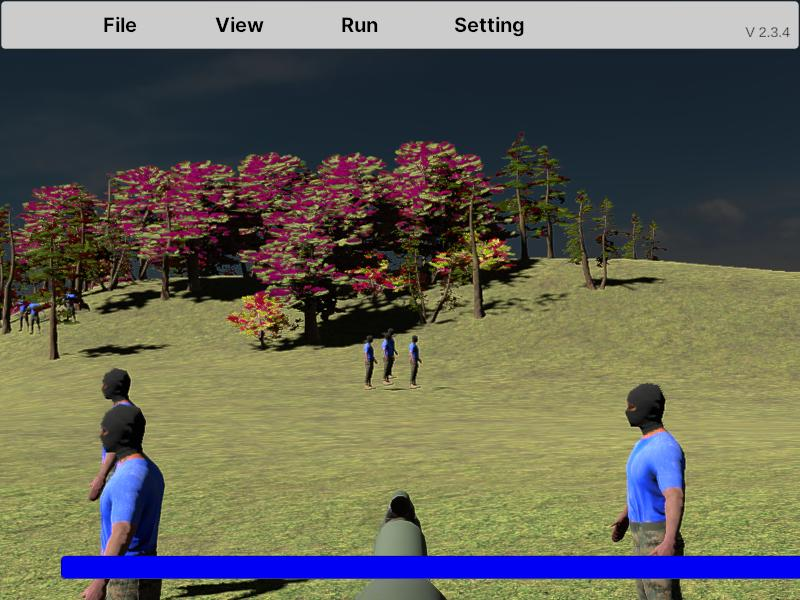Human: (611, 381, 686, 600), (85, 405, 164, 600), (365, 335, 377, 390), (409, 334, 421, 389)
